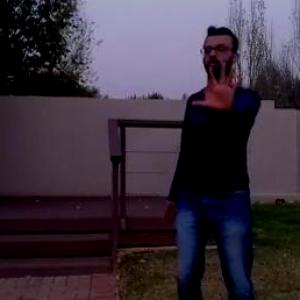follow_hand: (191, 60, 243, 113)
